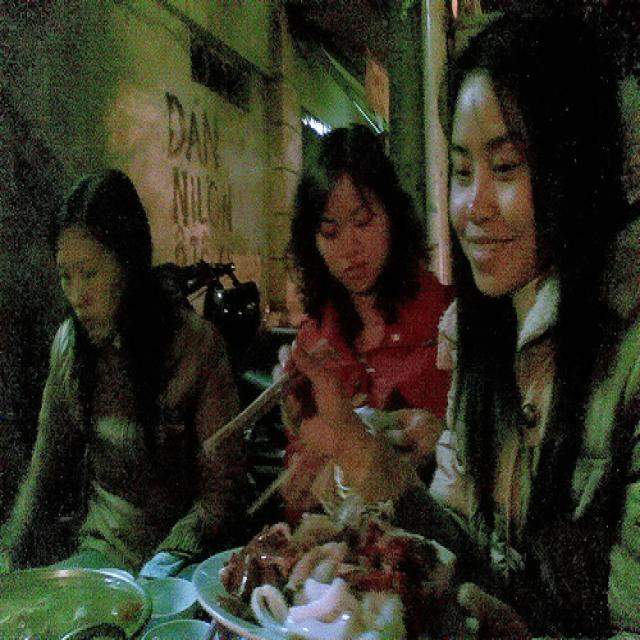person: (426, 8, 636, 639), (6, 167, 252, 585), (275, 122, 458, 513)
